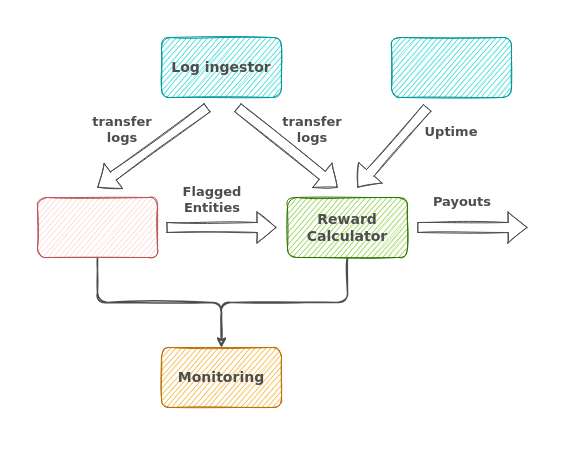
Some shapes in this 564 by 454 pixel diagram are drawn without their labels. The centre of each missing label's shape, as x and y in pixels:
"Log detection" goes at [97,227].
"Orchestrator" goes at [451,67].
